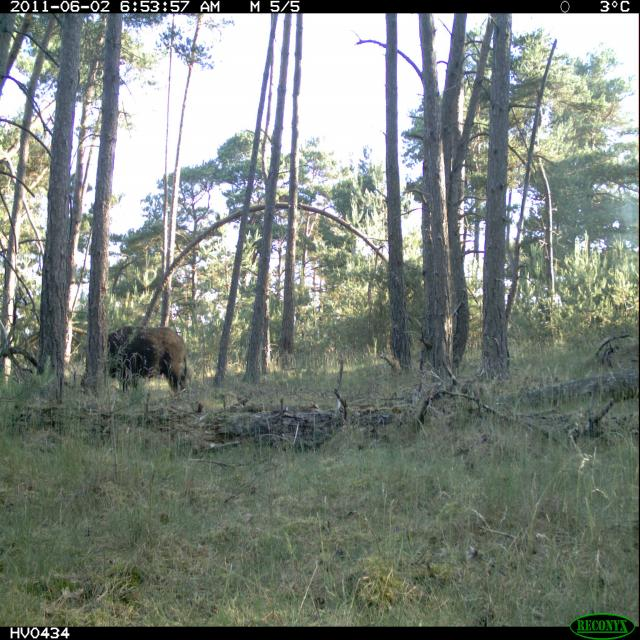boar: (91, 307, 200, 402)
